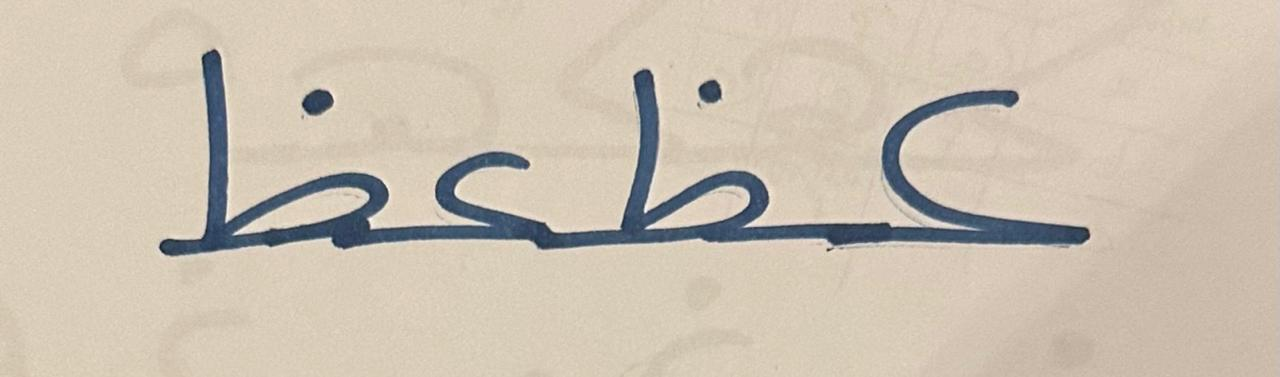ain: (799, 17, 1179, 322), (407, 17, 576, 316)
zain: (108, 7, 403, 322), (581, 20, 794, 319)
